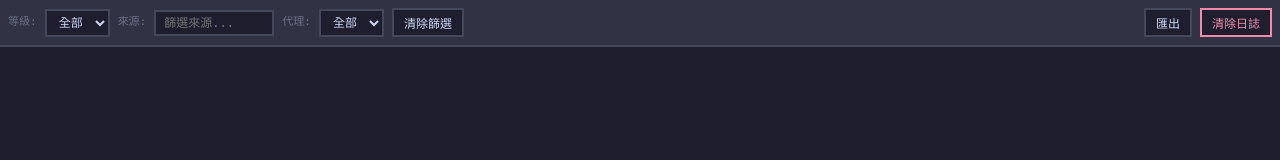
Scenario: LogViewer › 來源篩選支援子字串不分大小寫
The width and height of the screenshot is (1280, 160).
Type "conn" into the field with placeholder "篩選來源..." at (214, 22), box [154,10,274,36]
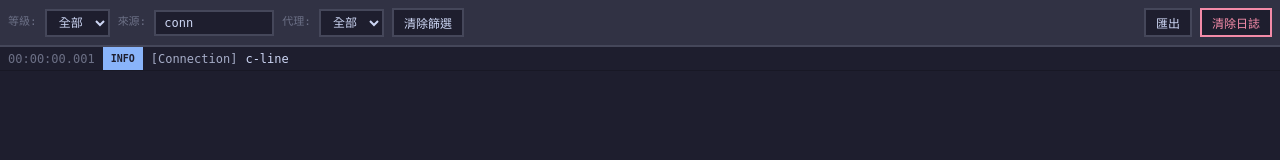
Expected: the text "c-line" is shown, [245,52,289,66]
